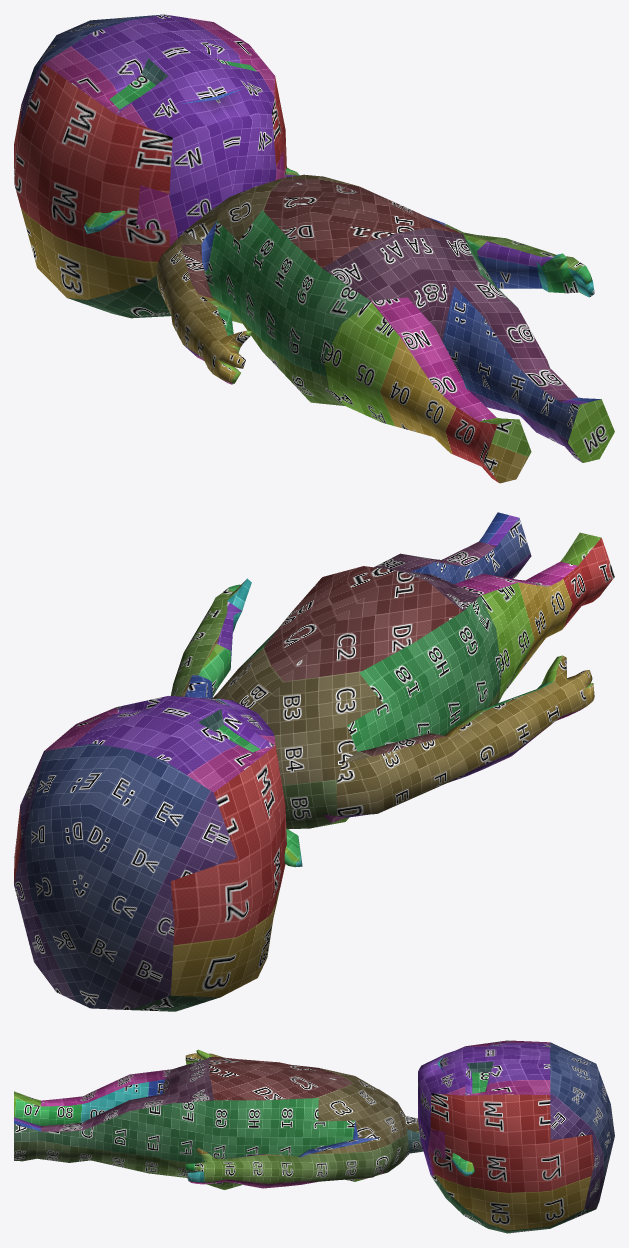
The model's file is char_base.fbx.
The picture shows the model from 3 angles, top to bottom: view 1: azimuth 30°, elevation 25°; view 2: azimuth 150°, elevation 25°; view 3: azimuth 270°, elevation 25°; orthographic projection. The views are drawn at different scales.
Parts seen in each view (by area): view 1: character_base; view 2: character_base; view 3: character_base.
Part boxes in pixels (x1,y1,x2,y2): character_base: (14, 14, 614, 483); character_base: (14, 512, 614, 1011); character_base: (14, 1040, 614, 1233).
Bounding box in the file's own units: 0.7301 × 1.59 × 0.5055.
1 material, 1 textured.
